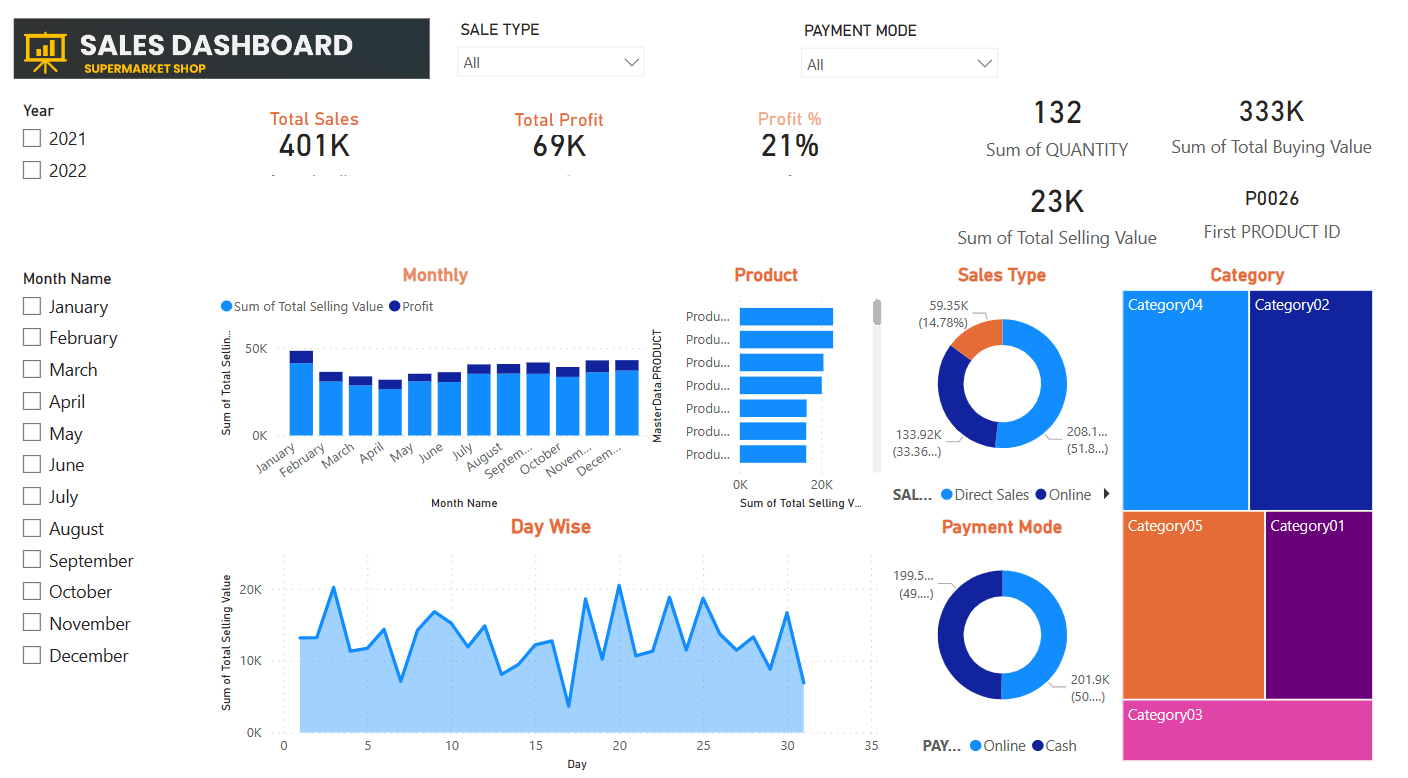

Layout of this report page (visuals, bound fields, positions):
{"tool":"powerbi","page":{"name":"Page 1","canvas":[1280,720],"ordinal":0},"visuals":[{"type":"slicer","fields":{"Values":["InputData.Year"]},"box":[16.5,87.7,124.8,128.9],"z":0},{"type":"slicer","fields":{"Values":["InputData.Month Name"]},"box":[15.9,240.8,125.9,388.7],"z":1000},{"type":"slicer","fields":{"Values":["InputData.PAYMENT MODE"]},"box":[729.8,14.7,200.5,74.6],"z":2000},{"type":"slicer","fields":{"Values":["InputData.SALE TYPE"]},"box":[415.6,13.4,191.9,74.6],"z":3000},{"type":"card","title":"Total Sales","fields":{"Values":["Sum(InputData.Total Selling Value)"]},"box":[204.1,97.8,182.1,67.2],"z":4000},{"type":"card","fields":{"Values":["Sum(InputData.Total Selling Value)"]},"box":[876.1,152.2,196.1,80.9],"z":5000},{"type":"card","fields":{"Values":["Min(InputData.PRODUCT ID)"]},"box":[1072.2,152.2,196.1,80.9],"z":6000},{"type":"card","fields":{"Values":["Sum(InputData.QUANTITY)"]},"box":[876.1,71.3,196.1,80.9],"z":7000},{"type":"card","title":"Total Profit","fields":{"Values":["InputData.Profit"]},"box":[430.3,99,177.2,66],"z":8000},{"type":"card","title":"Profit %","fields":{"Values":["InputData.Profit %"]},"box":[640.5,97.8,178.5,67.2],"z":9000},{"type":"columnChart","title":"Monthly","fields":{"Category":["InputData.Month Name"],"Y":["Sum(InputData.Total Selling Value)","InputData.Profit"]},"box":[204.1,240.8,403.4,229.8],"z":10000},{"type":"clusteredBarChart","title":"Product","fields":{"Y":["Sum(InputData.Total Selling Value)"],"Category":["InputData.MasterData.PRODUCT"]},"box":[599,240.8,220,229.8],"z":11000},{"type":"areaChart","title":"Day Wise","fields":{"Y":["Sum(InputData.Total Selling Value)"],"Category":["InputData.Day"]},"box":[204.1,470.6,614.9,238.4],"z":12000},{"type":"donutChart","title":"Sales Type","fields":{"Y":["Sum(InputData.Total Selling Value)"],"Category":["InputData.SALE TYPE"]},"box":[819,240.8,210.3,229.8],"z":13000},{"type":"donutChart","title":"Payment Mode","fields":{"Y":["Sum(InputData.Total Selling Value)"],"Category":["InputData.PAYMENT MODE"]},"box":[819,470.6,210.3,229.8],"z":14000},{"type":"treemap","title":"Category","fields":{"Group":["InputData.MasterData.CATEGORY"],"Values":["Sum(InputData.Total Selling Value)"]},"box":[1029.3,240.8,238.4,459.6],"z":15000},{"type":"card","fields":{"Values":["Sum(InputData.Total Buying Value)"]},"box":[1072.1,70.9,195.6,79.5],"z":16000},{"type":"image","box":[15.9,0,389.9,89.2],"z":17000}]}

Visuals, with their boxes in screenshot pixels (x1, y1, x2, y2), scaled from the page's 1280x720 canvas onto the 1408x778 screenshot:
slicer - InputData.Year: (left=18, top=95, right=155, bottom=234)
slicer - InputData.Month Name: (left=17, top=260, right=156, bottom=680)
slicer - InputData.PAYMENT MODE: (left=803, top=16, right=1023, bottom=96)
slicer - InputData.SALE TYPE: (left=457, top=14, right=668, bottom=95)
"Total Sales" card: (left=225, top=106, right=425, bottom=178)
card - Sum(InputData.Total Selling Value): (left=964, top=164, right=1179, bottom=252)
card - Min(InputData.PRODUCT ID): (left=1179, top=164, right=1395, bottom=252)
card - Sum(InputData.QUANTITY): (left=964, top=77, right=1179, bottom=164)
"Total Profit" card: (left=473, top=107, right=668, bottom=178)
"Profit %" card: (left=705, top=106, right=901, bottom=178)
"Monthly" columnChart: (left=225, top=260, right=668, bottom=509)
"Product" clusteredBarChart: (left=659, top=260, right=901, bottom=509)
"Day Wise" areaChart: (left=225, top=509, right=901, bottom=766)
"Sales Type" donutChart: (left=901, top=260, right=1132, bottom=509)
"Payment Mode" donutChart: (left=901, top=509, right=1132, bottom=757)
"Category" treemap: (left=1132, top=260, right=1394, bottom=757)
card - Sum(InputData.Total Buying Value): (left=1179, top=77, right=1394, bottom=163)
image: (left=17, top=0, right=446, bottom=96)
